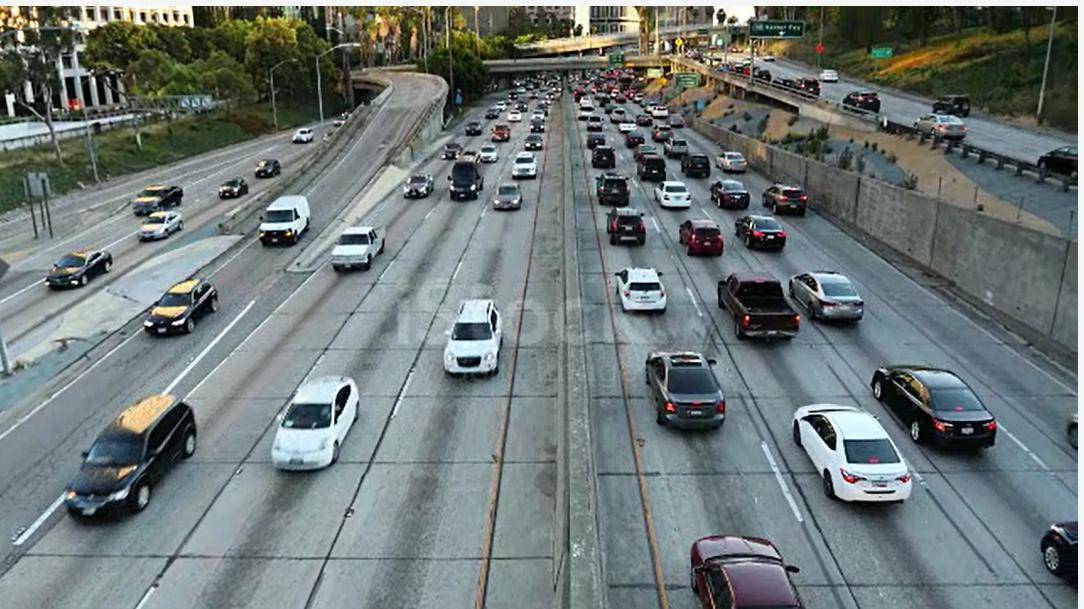car: (47, 379, 209, 536), (853, 343, 1031, 468), (767, 393, 928, 529), (637, 323, 749, 478), (663, 505, 805, 609), (271, 365, 364, 513), (407, 287, 522, 386), (133, 265, 240, 360), (695, 259, 793, 361), (789, 261, 871, 346), (247, 187, 321, 265), (611, 249, 677, 332), (35, 231, 114, 294), (328, 207, 378, 293), (121, 209, 202, 249), (482, 171, 534, 232), (827, 82, 895, 124), (906, 103, 977, 143), (733, 207, 787, 259), (599, 197, 645, 256), (124, 177, 189, 218), (764, 174, 813, 228), (668, 214, 725, 260), (448, 163, 485, 206), (506, 146, 542, 189), (708, 177, 752, 212), (713, 144, 755, 180), (399, 164, 435, 204), (587, 136, 623, 174), (630, 151, 670, 184), (594, 170, 627, 206), (213, 177, 253, 206), (655, 179, 692, 208), (250, 153, 285, 183), (513, 127, 544, 158), (680, 151, 710, 182), (646, 117, 675, 147), (478, 134, 501, 171), (287, 121, 313, 152), (439, 134, 464, 166), (661, 136, 688, 162), (458, 116, 483, 143), (585, 112, 609, 138), (617, 115, 640, 137), (625, 126, 643, 153), (490, 123, 512, 145), (607, 103, 626, 125)
